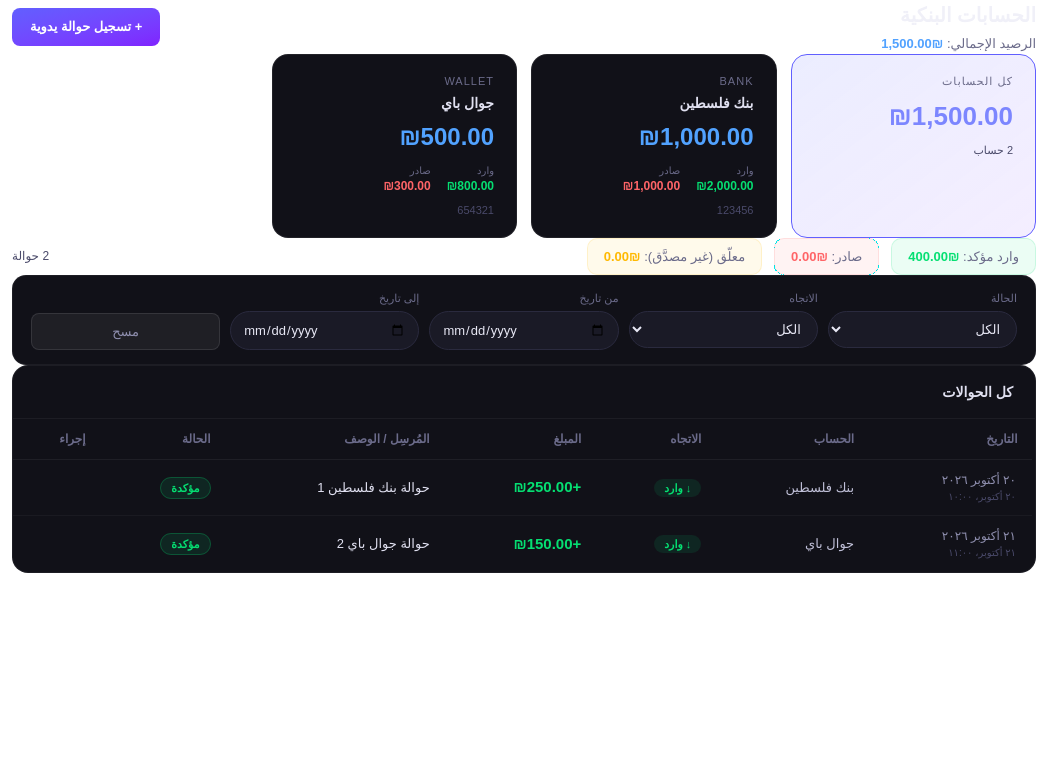
Test: BanksManager Account and Filter Integration › filters transfers to only selected account when account card is clicked
The image size is (1048, 768).
Expected: the text "حوالة بنك فلسطين 1" is shown, [317, 480, 430, 495]
Expected: the text "حوالة جوال باي 2" is shown, [337, 536, 430, 551]
Note: Click on "بنك فلسطين" account card (first occurrence is the card)
What coordinates should you click on to do the following:
click the text "بنك فلسطين"
I would click on:
 (716, 103)
Its box is [680, 95, 754, 111].
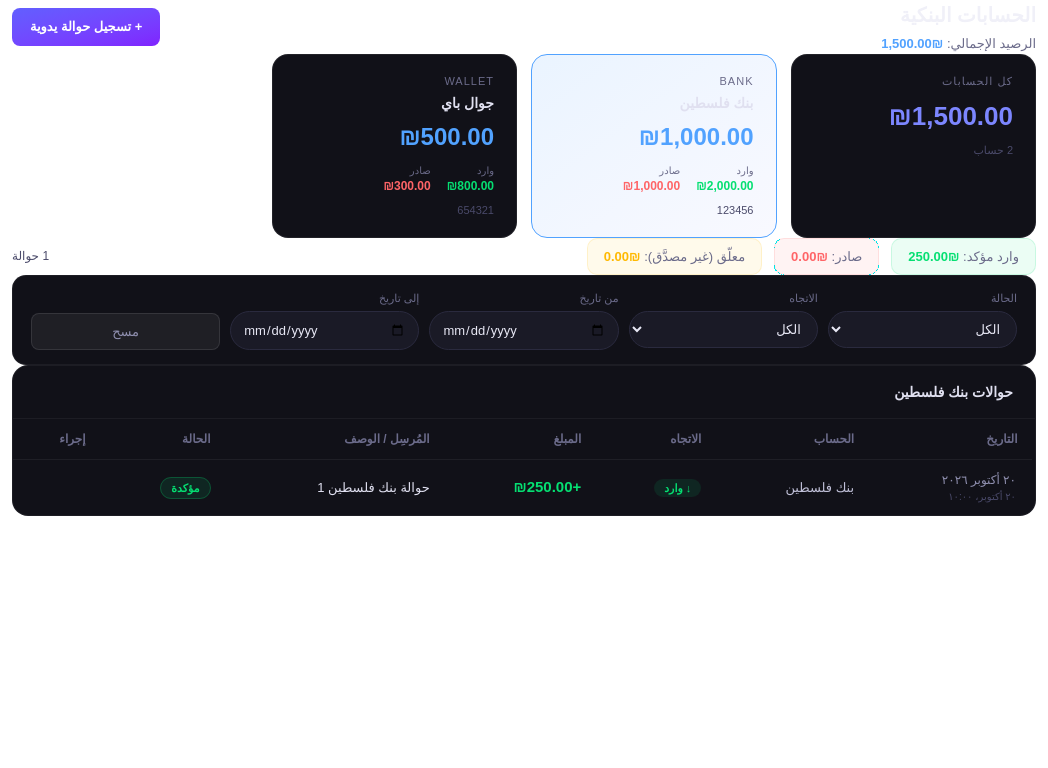
Expected: the text "حوالة بنك فلسطين 1" is shown, [317, 480, 430, 495]
Expected: the text "حوالة جوال باي 2" is gone
Note: Click on "كل الحسابات" card to reset selection
What coordinates should you click on to do the following:
click the text "كل الحسابات"
I would click on:
 (977, 80)
Its box is [942, 74, 1013, 86].
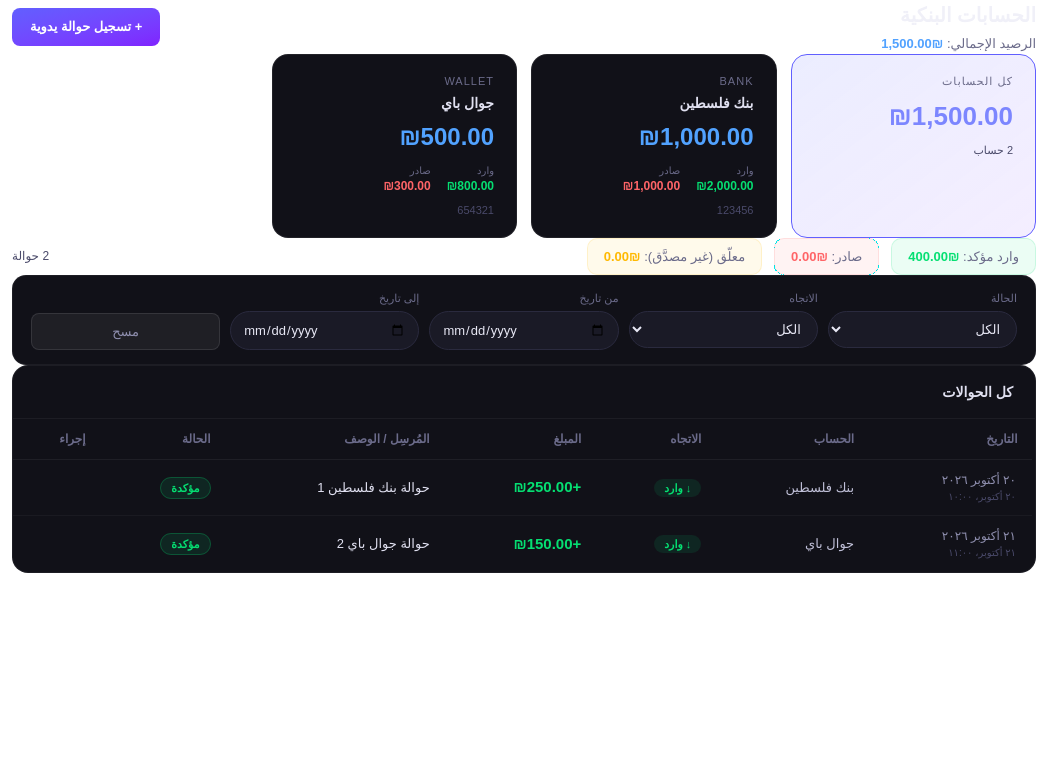
Expected: the text "حوالة بنك فلسطين 1" is shown, [317, 480, 430, 495]
Expected: the text "حوالة جوال باي 2" is shown, [337, 536, 430, 551]
